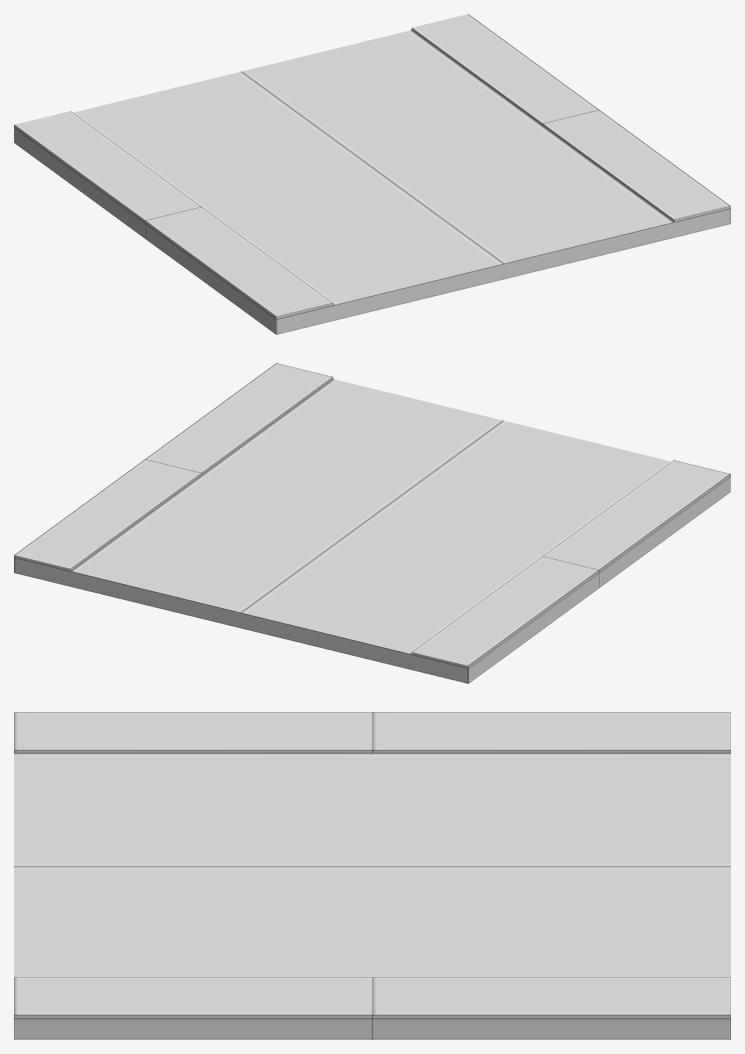
The model's file is Road-13.fbx.
The picture shows the model from 3 angles, top to bottom: view 1: azimuth 30°, elevation 25°; view 2: azimuth 150°, elevation 25°; view 3: azimuth 270°, elevation 25°; orthographic projection. The views are drawn at different scales.
Parts seen in each view (by area): view 1: Road_13; view 2: Road_13; view 3: Road_13.
Part boxes in pixels (x1,y1,x2,y2): Road_13: [14, 14, 730, 334]; Road_13: [14, 363, 730, 683]; Road_13: [14, 712, 730, 1039].
Bounding box in the file's own units: 8 × 0.3 × 8.
